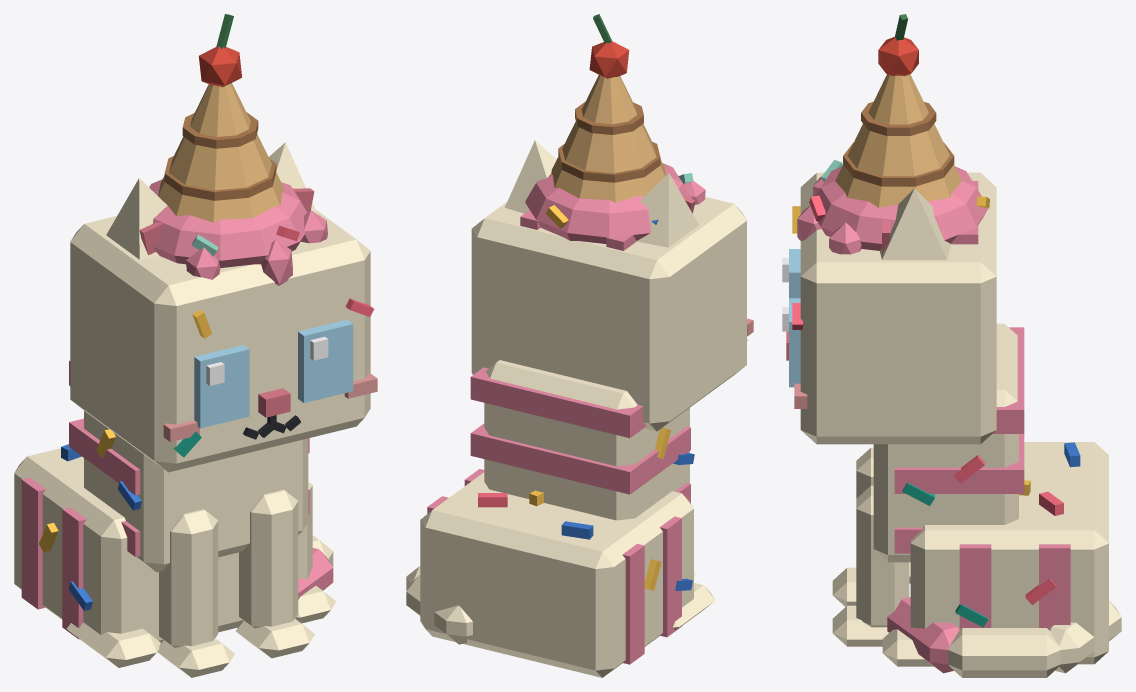
Rendered from CatCafe_Cat_Comet_Sit.glb.
3 views of the same model, side by side, from view 1: azimuth 30°, elevation 25°; view 2: azimuth 150°, elevation 25°; view 3: azimuth 270°, elevation 25° (orthographic). The views are drawn at different scales.
Visible parts, largest first — view 1: CatCafe_Cat_Comet_Sit_Head, CatCafe_Cat_Comet_Sit_Body, CatCafe_Cat_Comet_Sit_Prop, CatCafe_Cat_Comet_Sit_LegF1, CatCafe_Cat_Comet_Sit_LegF2, CatCafe_Cat_Comet_Sit_Eye1, CatCafe_Cat_Comet_Sit_Eye2, CatCafe_Cat_Comet_Sit_EarR, CatCafe_Cat_Comet_Sit_Tail, CatCafe_Cat_Comet_Sit_EarL; view 2: CatCafe_Cat_Comet_Sit_Body, CatCafe_Cat_Comet_Sit_Head, CatCafe_Cat_Comet_Sit_Prop, CatCafe_Cat_Comet_Sit_EarR, CatCafe_Cat_Comet_Sit_Tail, CatCafe_Cat_Comet_Sit_EarL; view 3: CatCafe_Cat_Comet_Sit_Body, CatCafe_Cat_Comet_Sit_Head, CatCafe_Cat_Comet_Sit_Prop, CatCafe_Cat_Comet_Sit_Tail, CatCafe_Cat_Comet_Sit_LegF1, CatCafe_Cat_Comet_Sit_EarL, CatCafe_Cat_Comet_Sit_LegF2, CatCafe_Cat_Comet_Sit_Eye1, CatCafe_Cat_Comet_Sit_Eye2.
Part boxes in pixels (x1,y1,x2,y2): CatCafe_Cat_Comet_Sit_Head: (70, 210, 377, 472); CatCafe_Cat_Comet_Sit_Body: (14, 360, 336, 667); CatCafe_Cat_Comet_Sit_Prop: (149, 14, 327, 285); CatCafe_Cat_Comet_Sit_LegF1: (236, 489, 314, 658); CatCafe_Cat_Comet_Sit_LegF2: (157, 509, 234, 677); CatCafe_Cat_Comet_Sit_Eye1: (298, 319, 353, 402); CatCafe_Cat_Comet_Sit_Eye2: (194, 345, 249, 428); CatCafe_Cat_Comet_Sit_EarR: (106, 178, 167, 259); CatCafe_Cat_Comet_Sit_Tail: (298, 535, 333, 599); CatCafe_Cat_Comet_Sit_EarL: (269, 142, 317, 214); CatCafe_Cat_Comet_Sit_Body: (420, 360, 715, 677); CatCafe_Cat_Comet_Sit_Head: (471, 197, 753, 431); CatCafe_Cat_Comet_Sit_Prop: (525, 14, 705, 243); CatCafe_Cat_Comet_Sit_EarR: (636, 173, 698, 247); CatCafe_Cat_Comet_Sit_Tail: (406, 566, 472, 644); CatCafe_Cat_Comet_Sit_EarL: (505, 140, 556, 213); CatCafe_Cat_Comet_Sit_Body: (873, 323, 1108, 666); CatCafe_Cat_Comet_Sit_Head: (786, 172, 996, 444); CatCafe_Cat_Comet_Sit_Prop: (797, 14, 989, 254); CatCafe_Cat_Comet_Sit_Tail: (887, 597, 1121, 677); CatCafe_Cat_Comet_Sit_LegF1: (832, 485, 909, 646); CatCafe_Cat_Comet_Sit_EarL: (880, 188, 950, 259); CatCafe_Cat_Comet_Sit_LegF2: (832, 447, 873, 606); CatCafe_Cat_Comet_Sit_Eye1: (782, 298, 800, 387); CatCafe_Cat_Comet_Sit_Eye2: (782, 249, 800, 298).
Size of the model in its own units: 1.05 by 2.42 by 1.22.
1 material, 1 textured.
